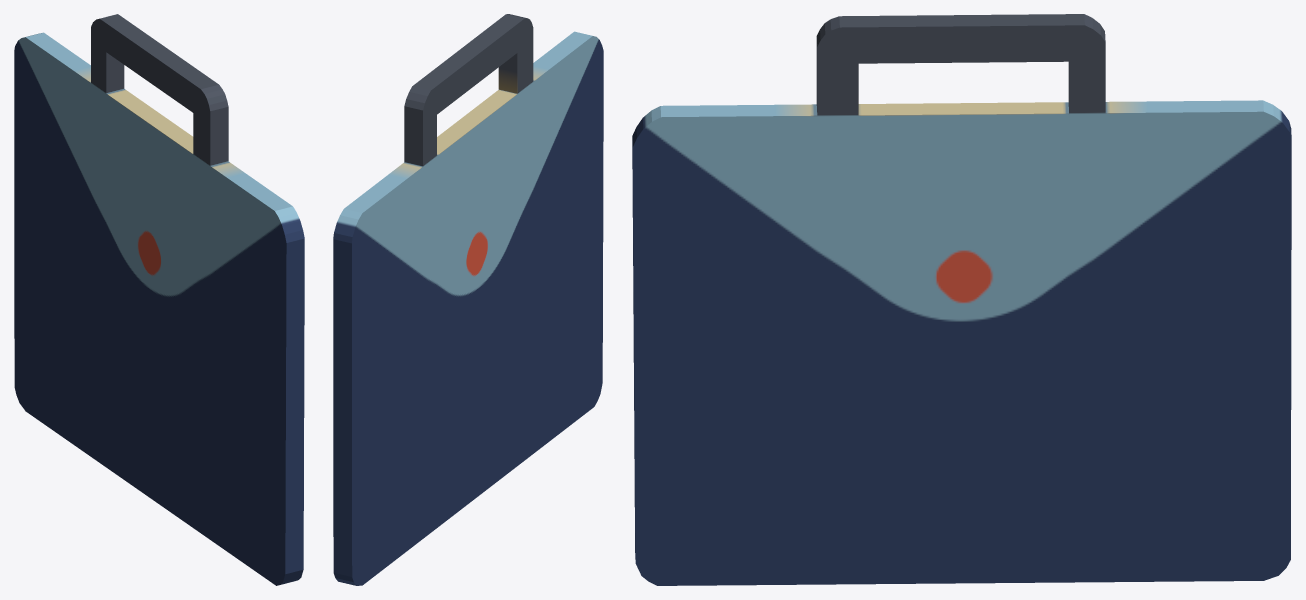
The model's file is work  icon.fbx.
The picture shows the model from 3 angles, left to right: view 1: azimuth 30°, elevation 25°; view 2: azimuth 150°, elevation 25°; view 3: azimuth 270°, elevation 25°; orthographic projection. The views are drawn at different scales.
Parts seen in each view (by area): view 1: Plane.003; view 2: Plane.003; view 3: Plane.003.
Part boxes in pixels (<box>): Plane.003: <box>14,14,304,585</box>; Plane.003: <box>333,14,603,585</box>; Plane.003: <box>632,14,1291,585</box>.
Size of the model in its own units: 3.03 by 45.69 by 49.01.
Materials: 1 (1 with a texture image).
